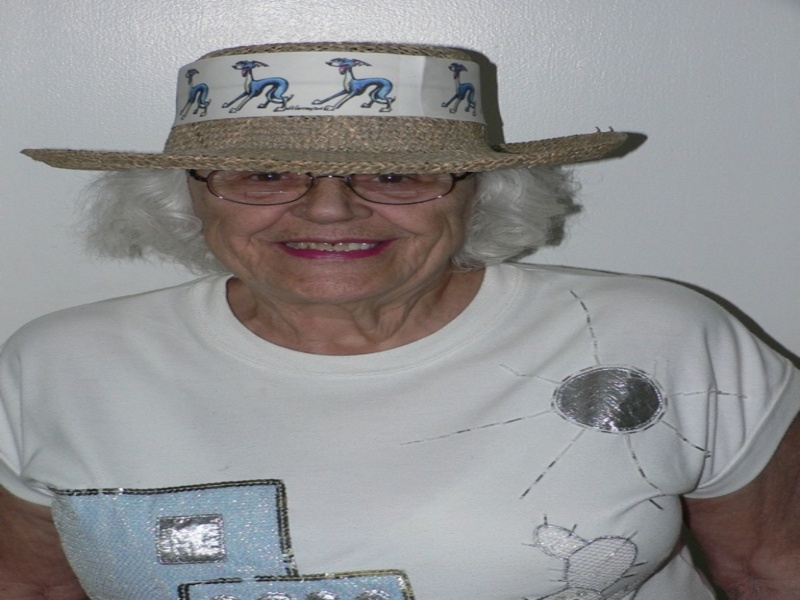person: (18, 22, 770, 600)
